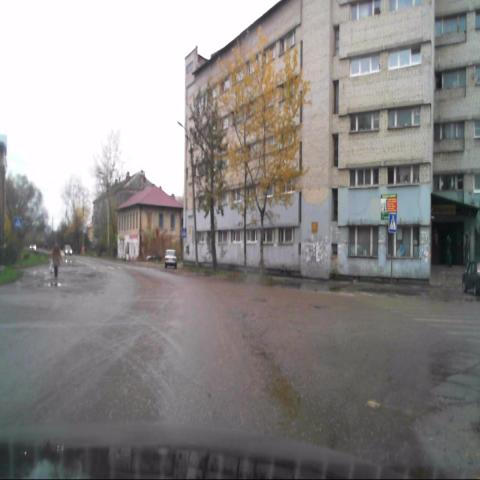5_19_1: (388, 211, 398, 234)
